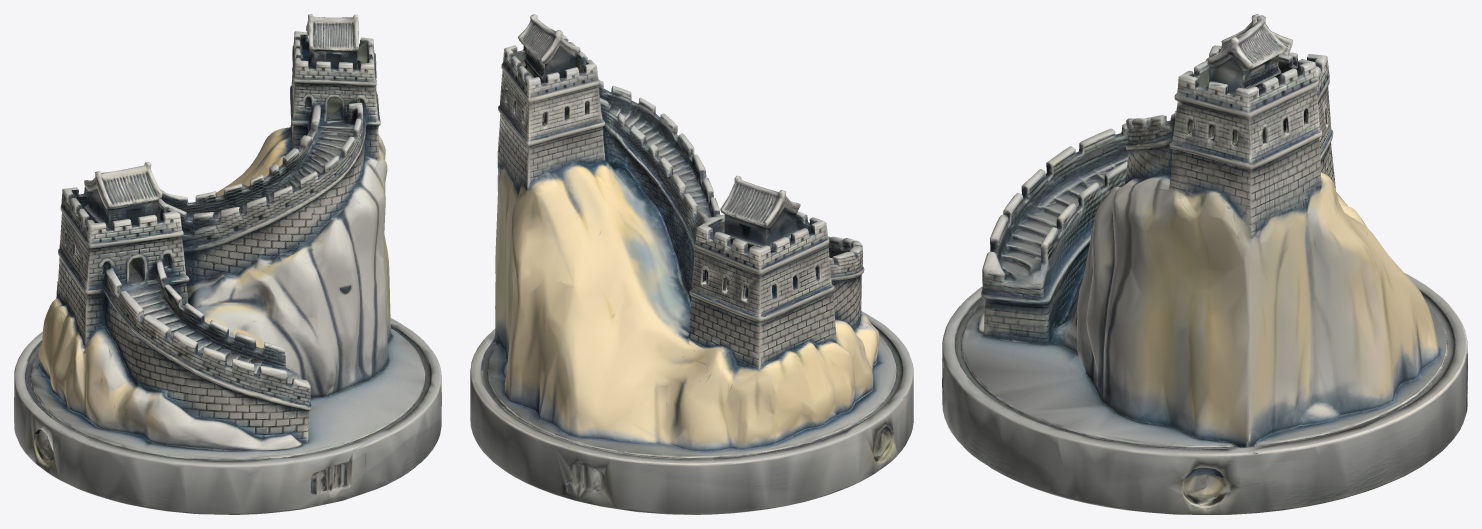
File: great_wall_silver.glb
The picture shows the model from 3 angles, left to right: view 1: azimuth 30°, elevation 25°; view 2: azimuth 150°, elevation 25°; view 3: azimuth 270°, elevation 25°; orthographic projection. The views are drawn at different scales.
Visible parts, largest first — view 1: Mesh_0; view 2: Mesh_0; view 3: Mesh_0.
Boxes of the visible parts, x1=… form: Mesh_0: x1=14, y1=14, x2=441, y2=514; Mesh_0: x1=470, y1=14, x2=913, y2=514; Mesh_0: x1=942, y1=14, x2=1467, y2=514.
Size of the model in its own units: 1.91 by 1.82 by 1.91.
Materials: 1 (1 with a texture image).
